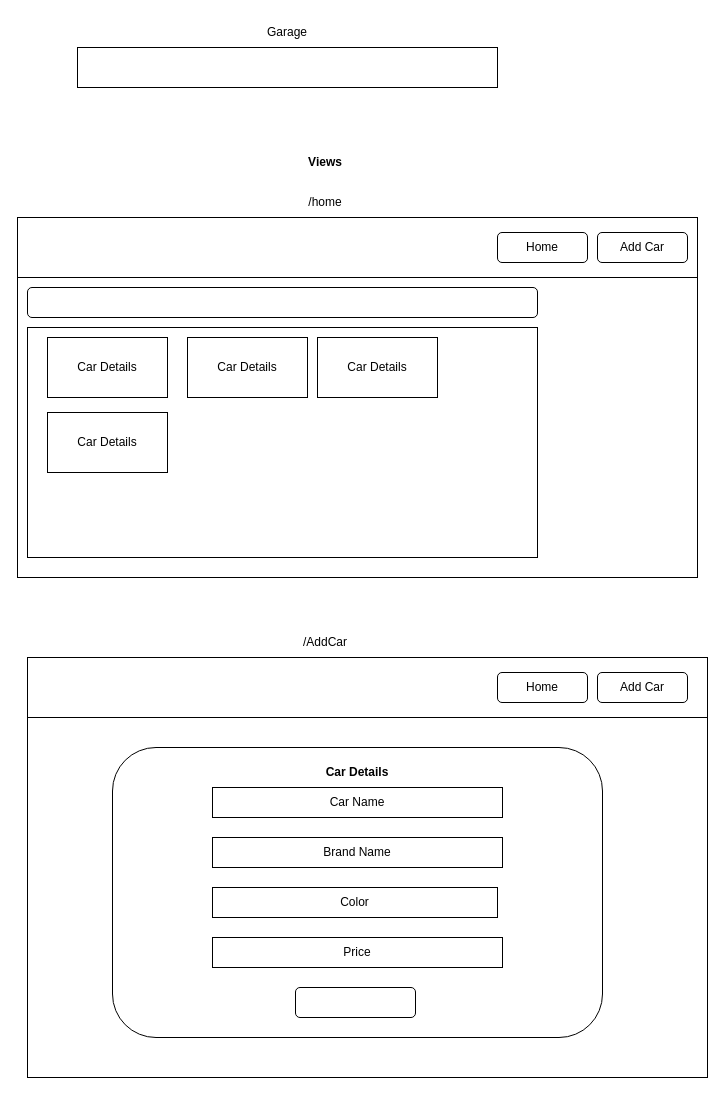
This 725x1095 diagram has some shape labels left out. The centre of each missing label's shape, as x and y in pixels:
"Add" goes at point (355, 1002).
"Id(PK) | Car name | Brand Name | Car Color | Car Price" goes at point (287, 67).
"Search Bar" goes at point (282, 302).
